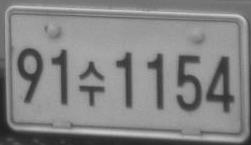1: (144, 51, 171, 109), (113, 51, 140, 108), (49, 48, 75, 106)
4: (204, 56, 235, 113)
5: (175, 53, 203, 112)
9: (16, 47, 44, 105)
수: (77, 61, 104, 106)
